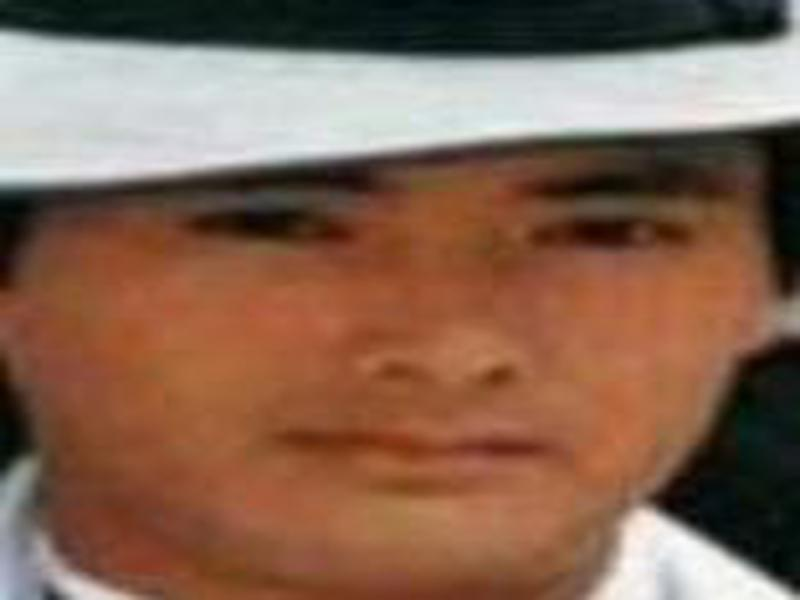without_mask: (27, 144, 748, 593)
